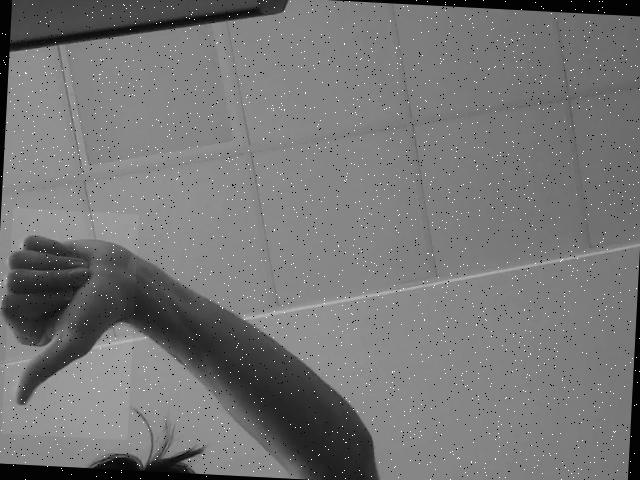bad: (1, 208, 140, 440)
